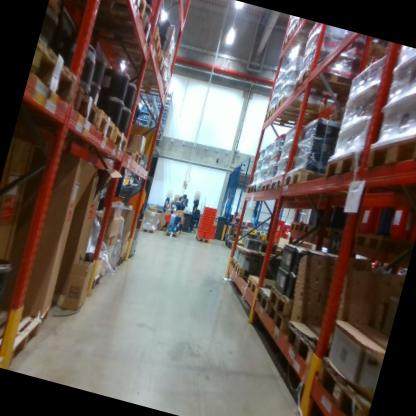forklift: (87, 112, 173, 267)
pallet: (23, 26, 99, 112), (61, 0, 155, 55), (307, 348, 381, 416), (317, 135, 388, 201), (354, 114, 416, 181), (279, 316, 347, 368), (292, 62, 366, 109), (105, 36, 171, 77), (53, 0, 151, 25), (271, 90, 331, 130), (283, 159, 343, 197), (111, 19, 167, 58), (279, 27, 336, 65), (68, 84, 109, 136), (113, 64, 172, 100), (261, 282, 302, 323), (258, 298, 293, 339), (91, 105, 123, 147), (106, 124, 139, 163), (259, 105, 301, 133), (242, 271, 275, 304), (383, 231, 411, 266), (312, 218, 348, 244), (250, 286, 278, 318), (231, 259, 264, 286), (352, 227, 387, 251), (287, 16, 321, 40), (80, 264, 103, 296), (124, 146, 147, 168), (265, 168, 285, 191), (295, 217, 317, 237), (248, 173, 264, 196), (257, 173, 274, 192), (286, 214, 302, 233), (98, 262, 112, 283), (192, 232, 211, 246), (139, 221, 158, 235), (227, 254, 239, 273), (109, 257, 120, 276), (163, 228, 179, 241), (117, 251, 128, 268), (235, 217, 249, 228), (245, 179, 255, 193), (157, 224, 168, 234)
